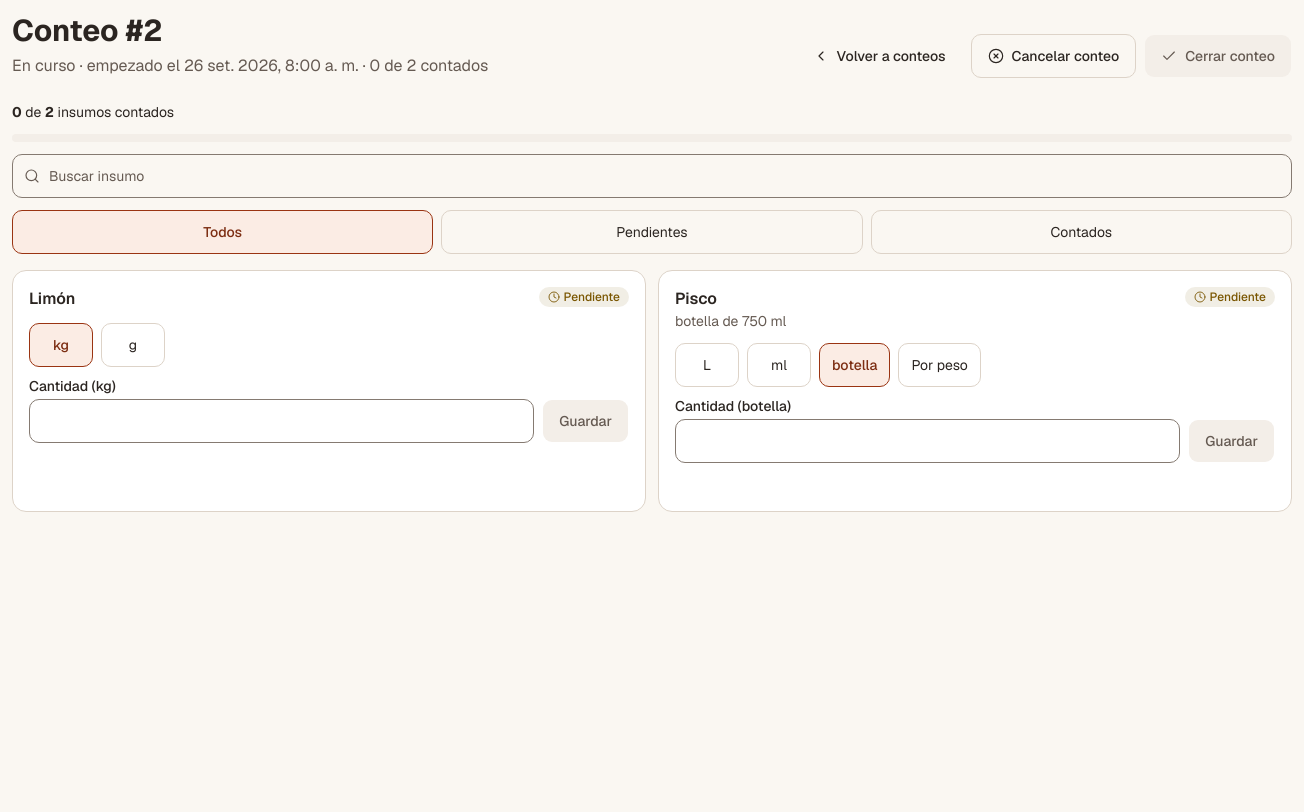
Scenario: contar › cuenta el pisco en botellas con la conversión en vivo y guarda solo esa línea
The image size is (1304, 812).
Expected: the text "Pendiente" is shown 2 times, [564, 288, 620, 304]; [1210, 288, 1266, 304]
Type "3.5" into the field labelled "Cantidad (botella)". click: (928, 440)
box: [675, 418, 1180, 462]
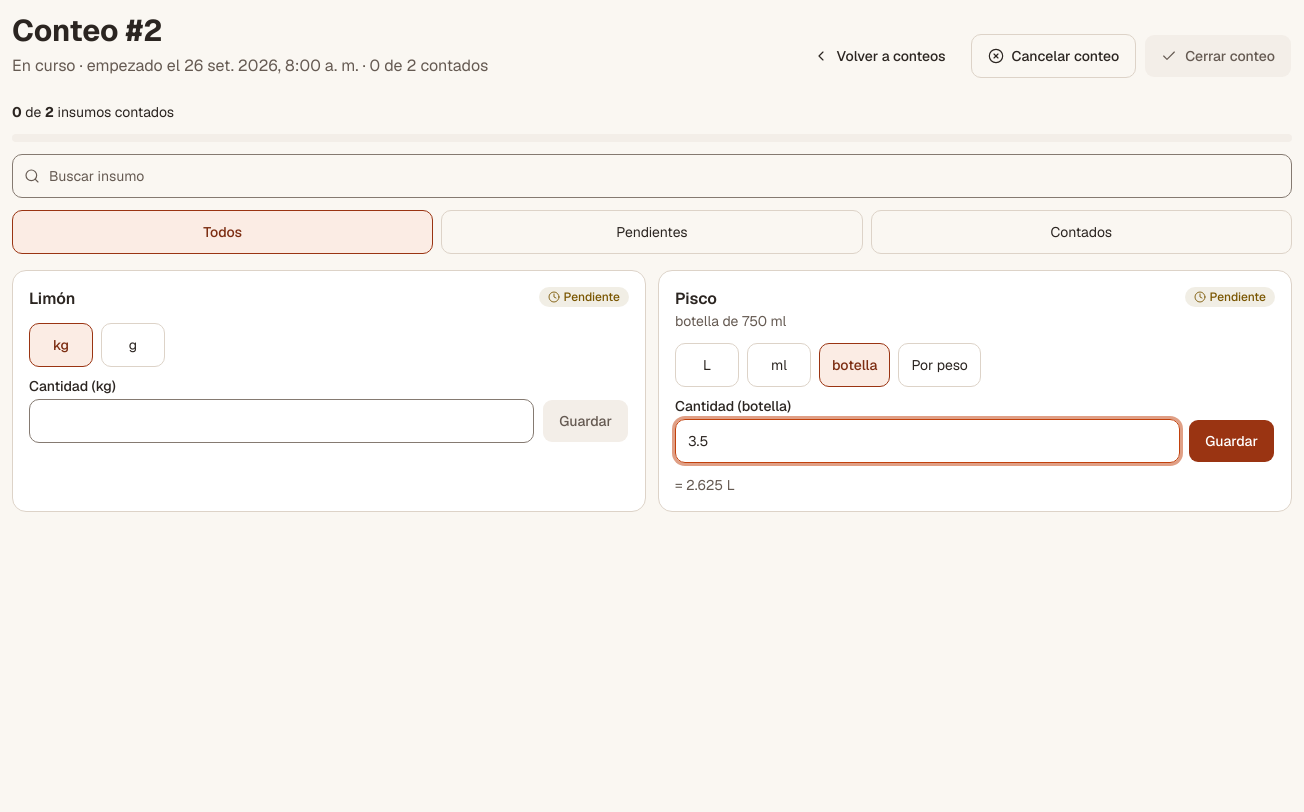
Click the button "Guardar" below "Por peso". click: (1232, 440)
box: [1188, 418, 1275, 462]
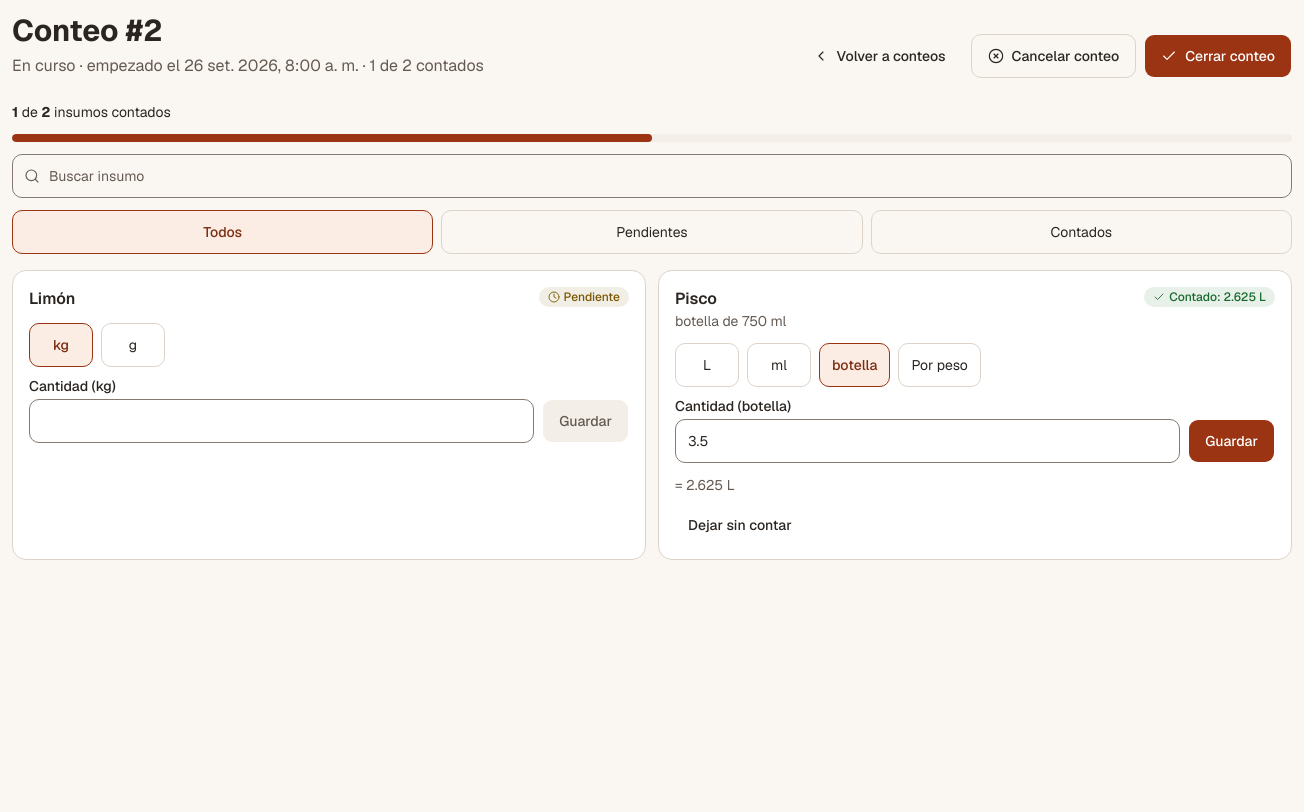
Expected: the text "Pendiente" is shown once, [564, 288, 620, 304]
Expected: the text "Contado: 2.625 L" is shown, [1169, 288, 1266, 304]
Expected: the text "insumos contados" reads "1 de 2 insumos contados", [12, 102, 171, 120]
